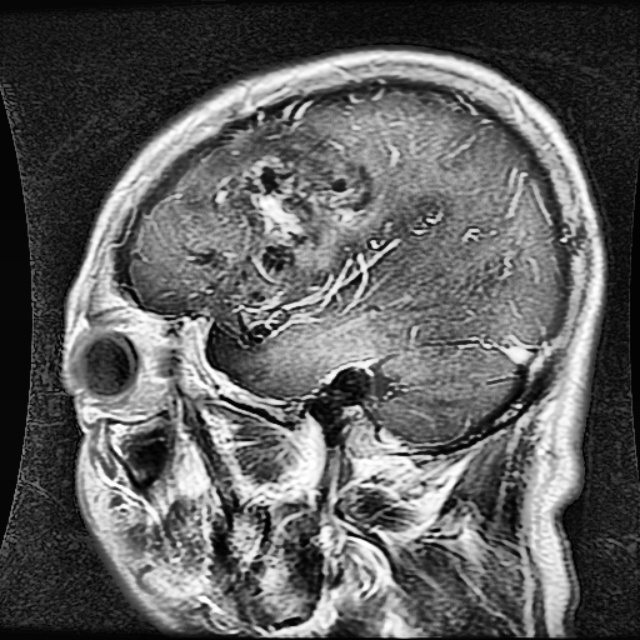Meningioma: (218, 137, 379, 284)
